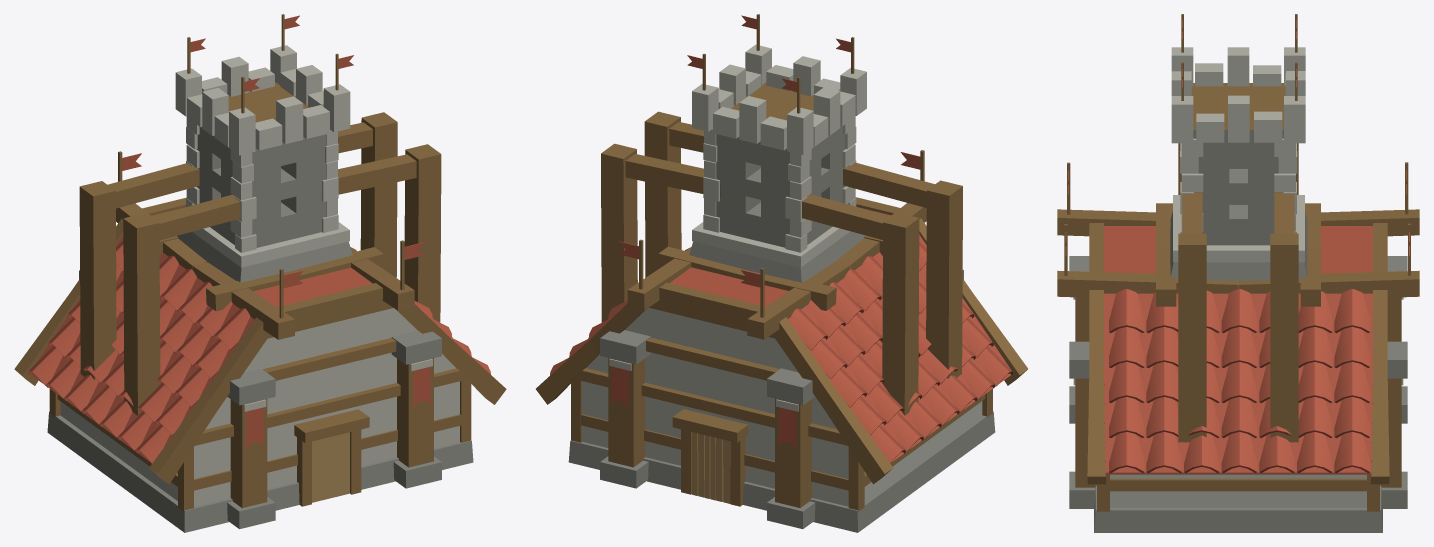
The model's file is Tower House.glb.
3 renders of one model, left to right at view 1: azimuth 30°, elevation 25°; view 2: azimuth 150°, elevation 25°; view 3: azimuth 270°, elevation 25°, orthographic. The views are drawn at different scales.
Parts seen in each view (by area): view 1: Tower House; view 2: Tower House; view 3: Tower House.
Boxes of the visible parts, <box> form: Tower House: <box>14,14,506,532</box>; Tower House: <box>536,14,1027,532</box>; Tower House: <box>1057,14,1419,532</box>.
Bounding box in the file's own units: 1.37 × 1.5 × 1.17.
